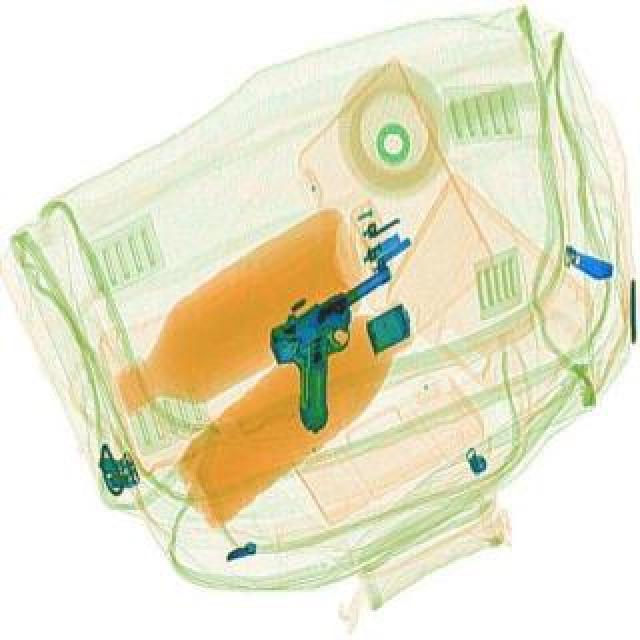gun: (246, 258, 450, 434)
